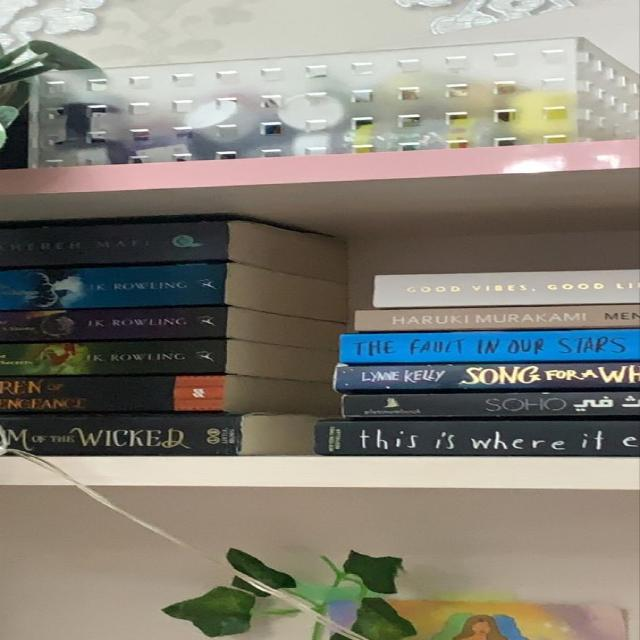book: (314, 421, 639, 456), (339, 329, 639, 365), (372, 270, 639, 308), (5, 416, 241, 456), (334, 364, 639, 393), (1, 378, 227, 415), (0, 268, 220, 305), (354, 304, 639, 332), (1, 228, 225, 263), (342, 392, 639, 417), (5, 308, 231, 338), (1, 344, 226, 374)
